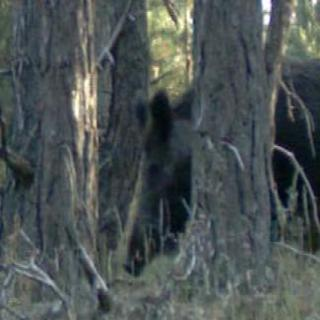Pig: (121, 59, 320, 254)
